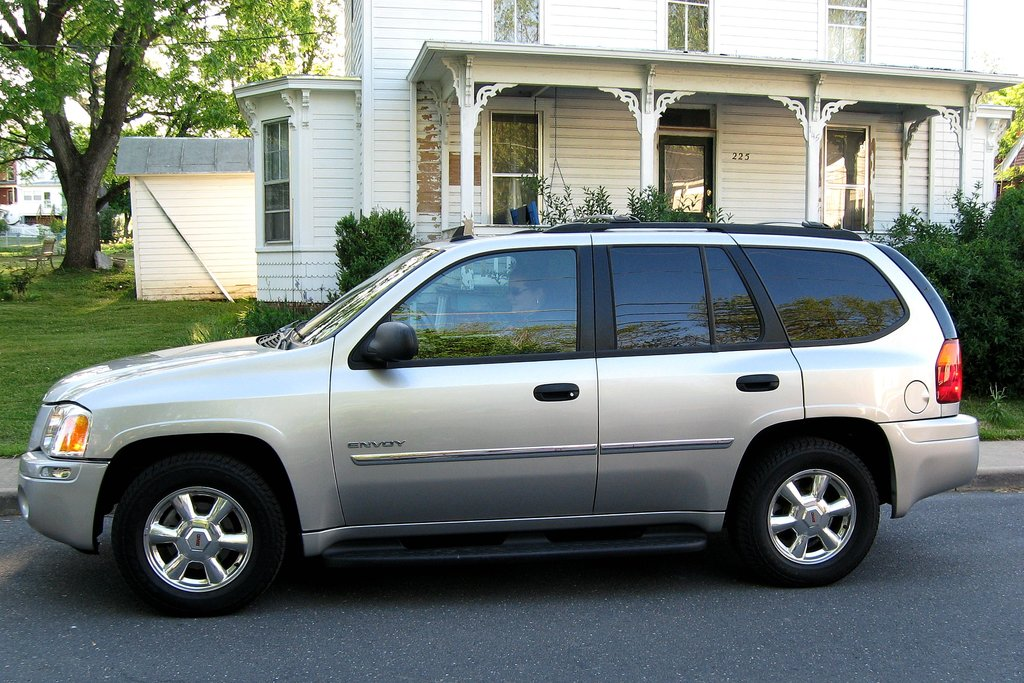person: (444, 266, 580, 348)
